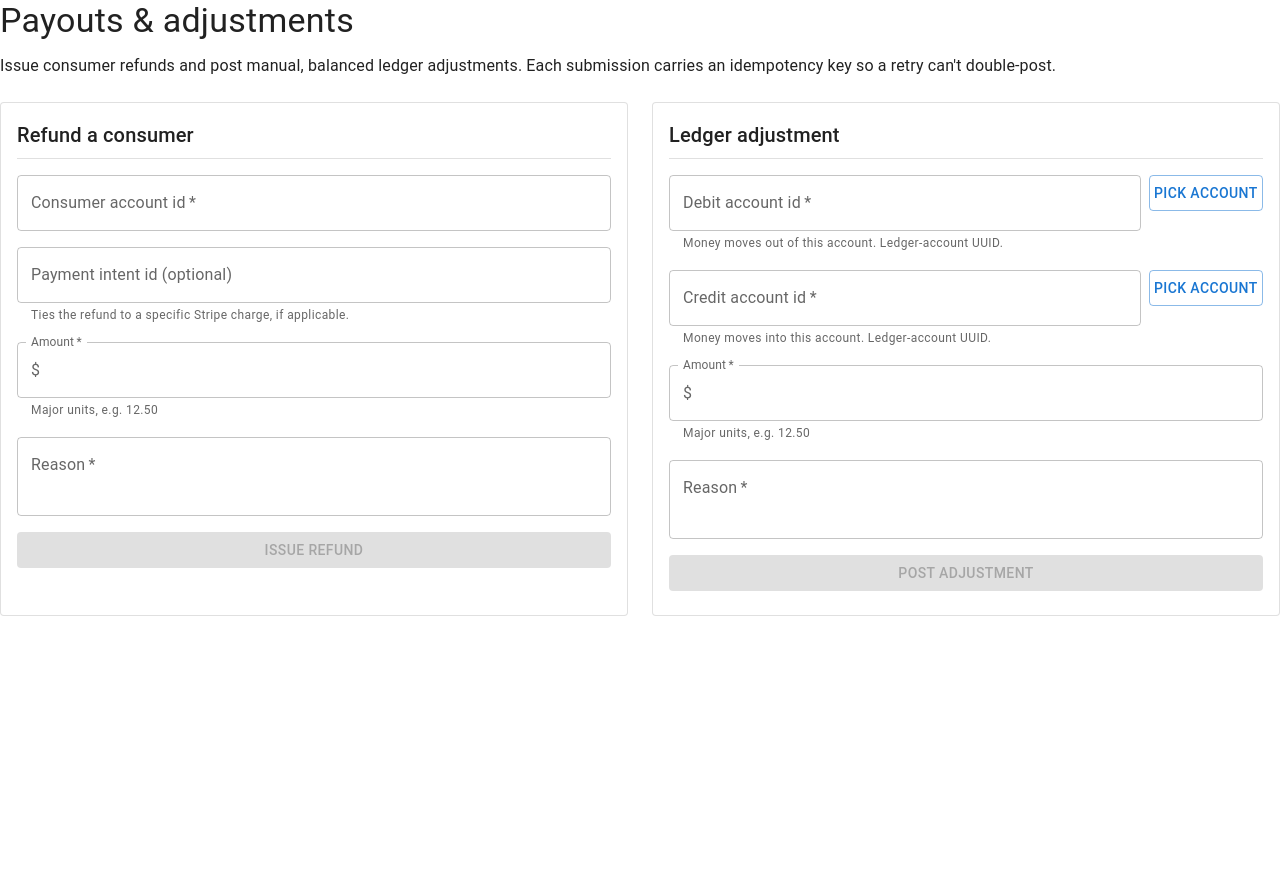
it: PayoutsPanel › surfaces the API's validation_error message and the flat { field } details
In the field named "Adjustment debit account id": (905, 203) [669,175,1141,231], type "11111111-1111-1111-1111-111111111111"
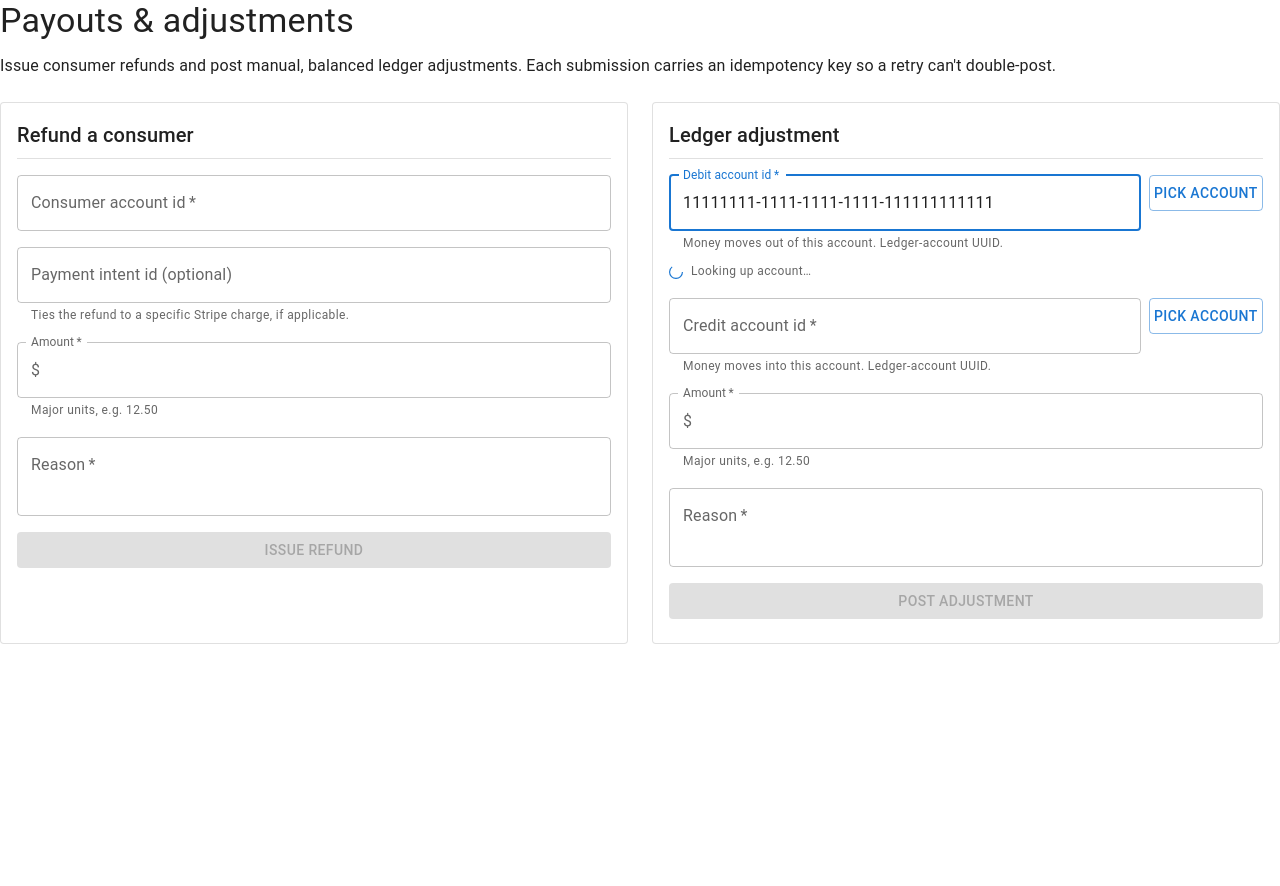
In the field named "Adjustment credit account id": (905, 326) [669,298,1141,354], type "22222222-2222-2222-2222-222222222222"
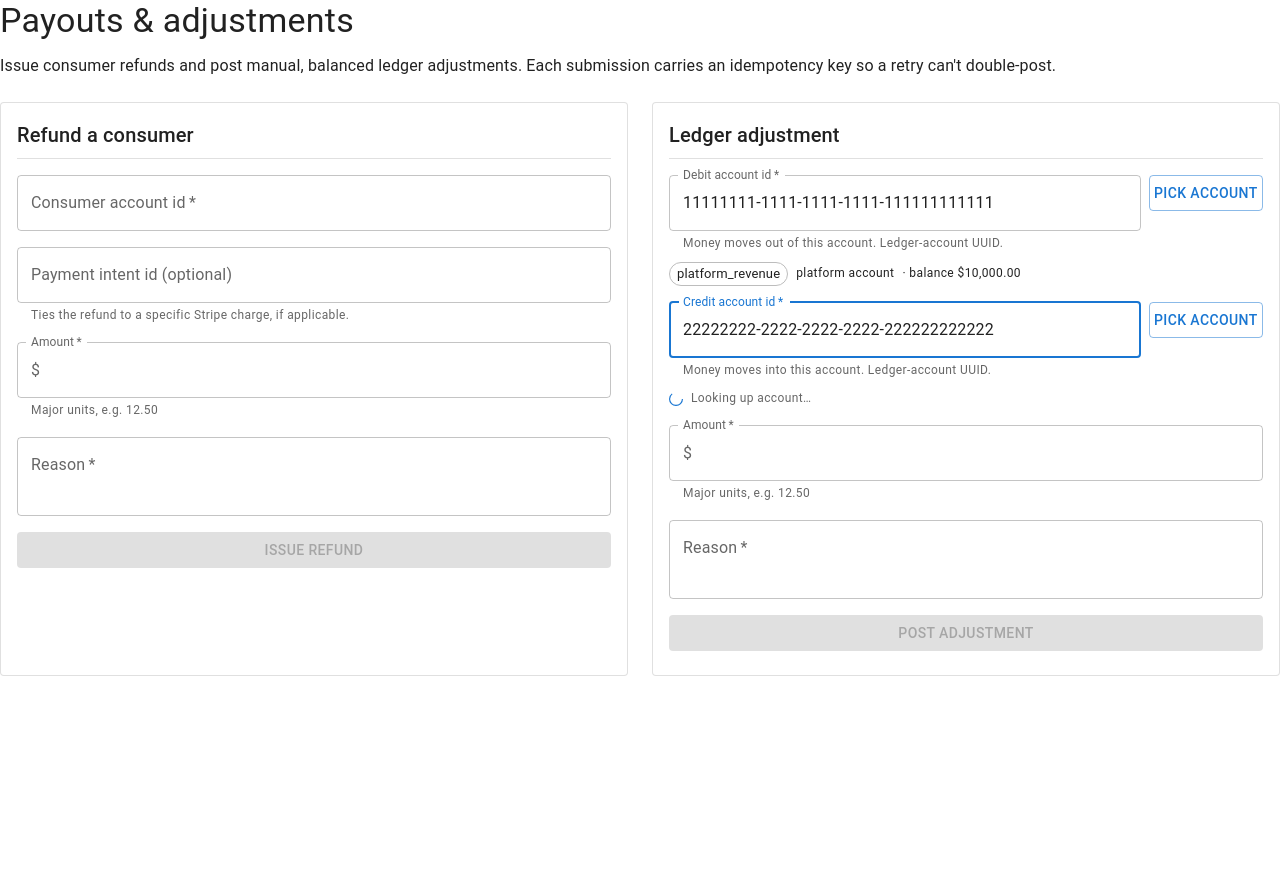
In the field named "Adjustment amount": (982, 453) [700,425,1263,481], type "2"
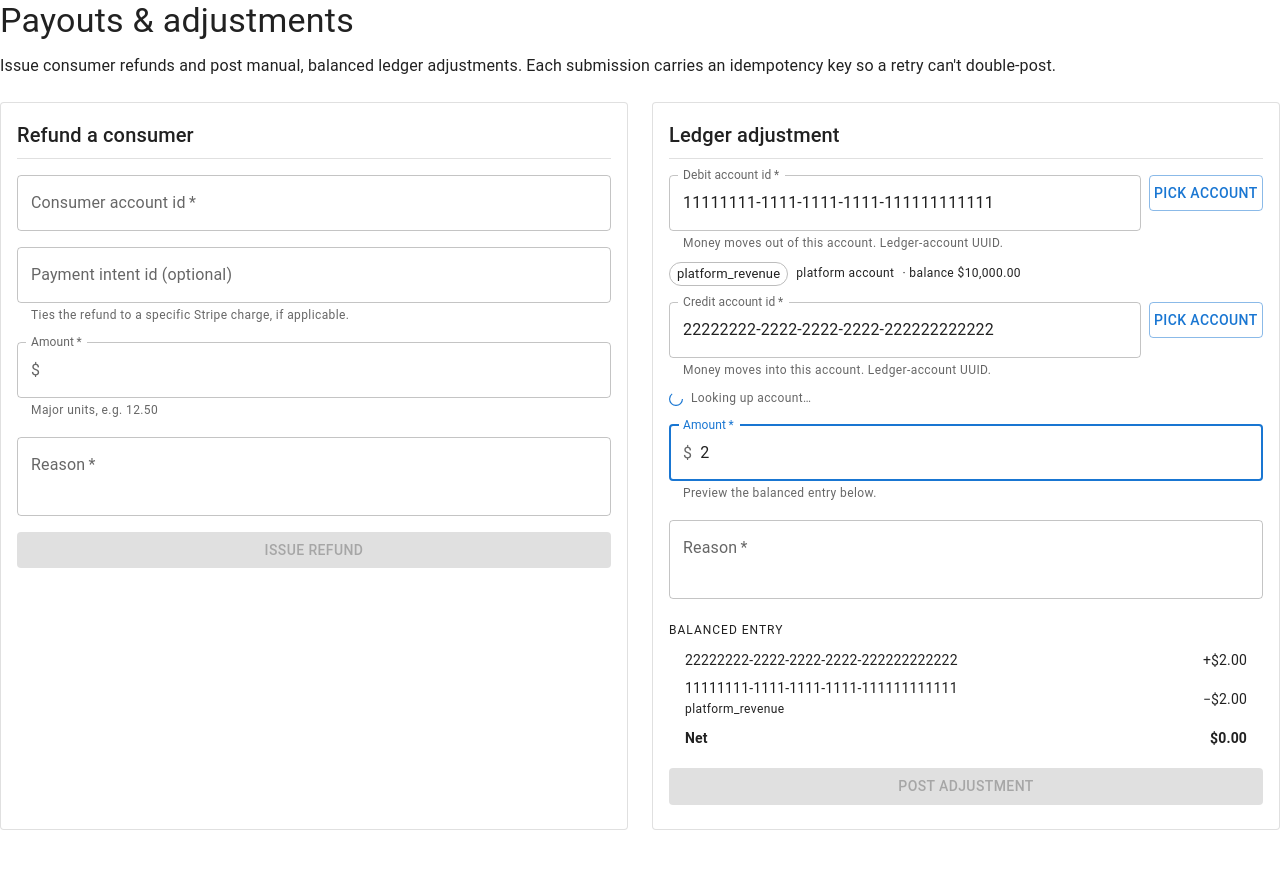
In the text box named "Adjustment reason": (966, 559) [683,536,1249,582], type "oops"
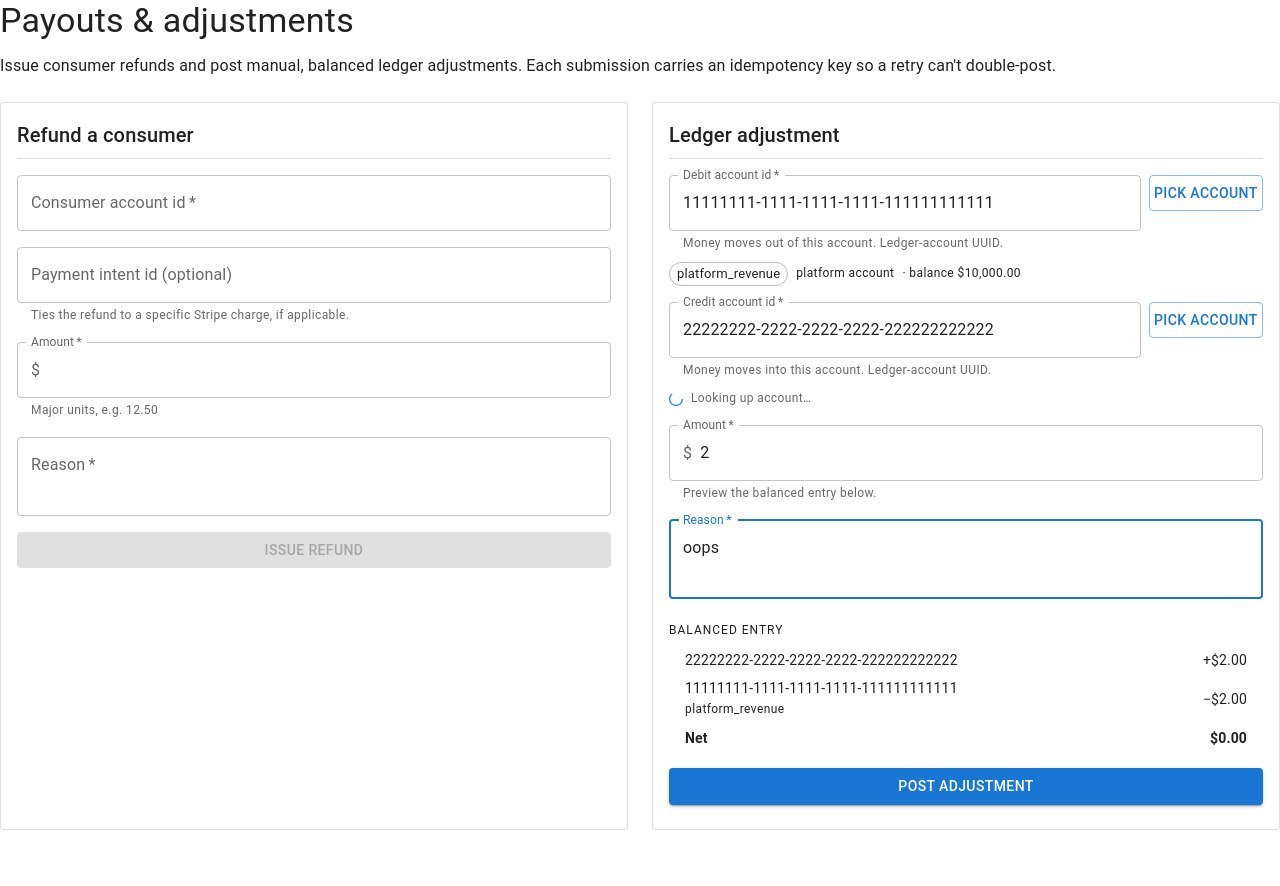
Click the button "Post adjustment": (966, 787) [669,768,1263,805]
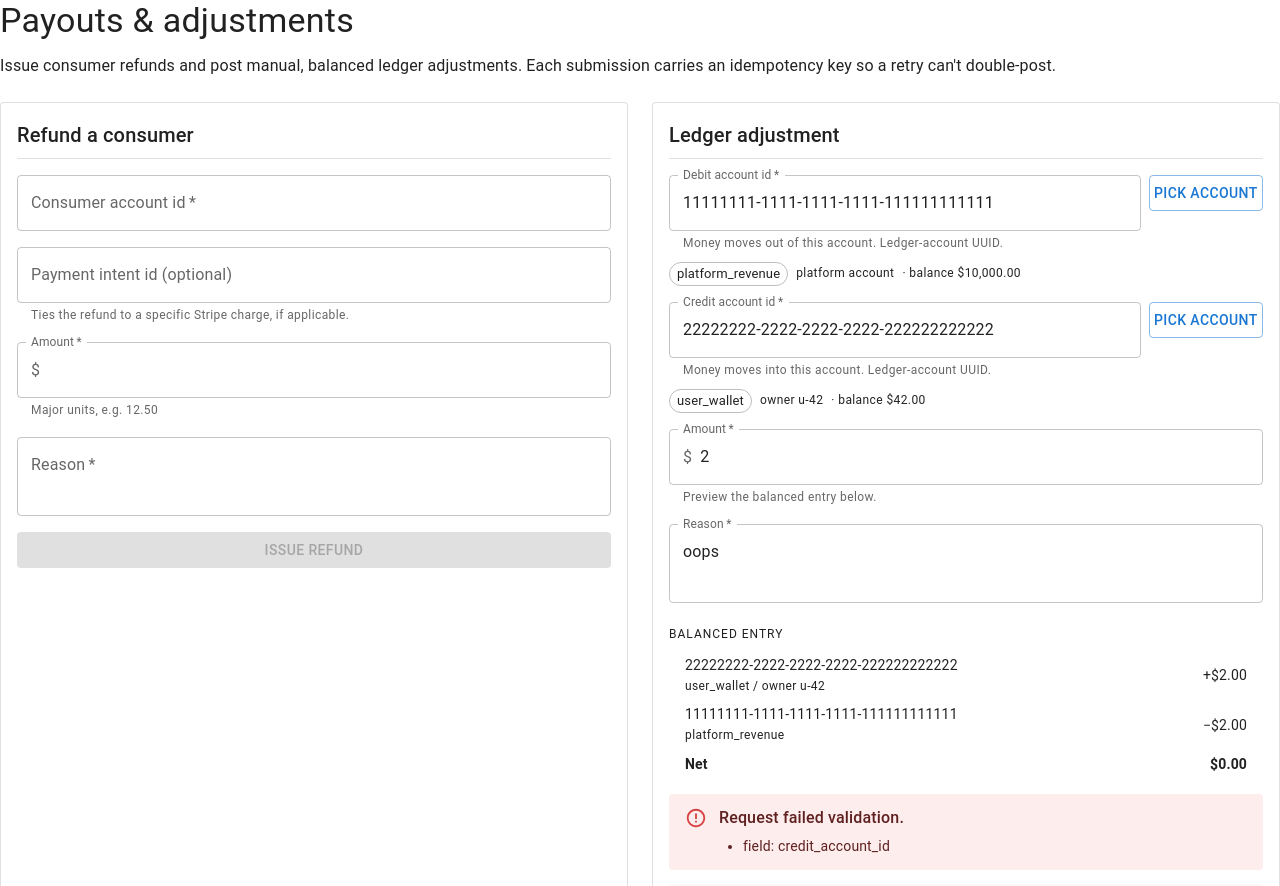
Result: the text "Request failed validation." is shown at [719,806,904,830]
Result: the list item "field: credit_account_id" is shown at [743,836,904,856]
